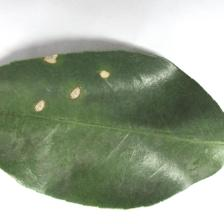canker: (18, 43, 115, 116)
